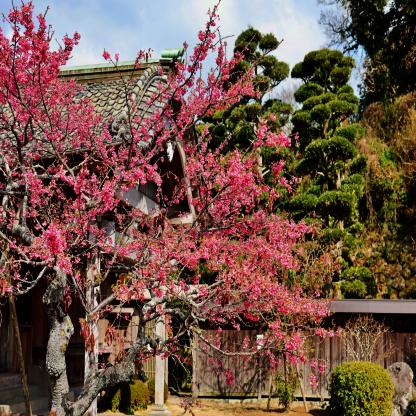KanhiSakura: (1, 0, 337, 416)
